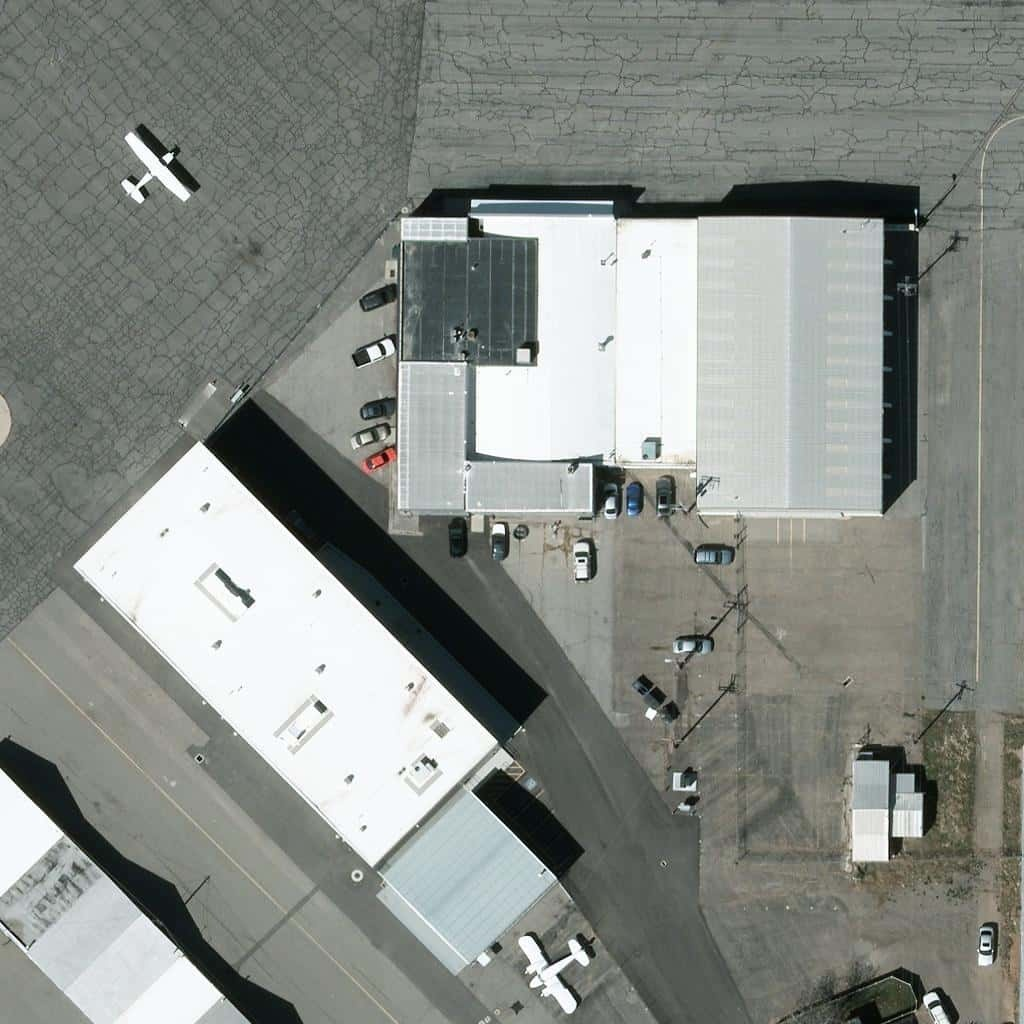plane: (116, 131, 196, 209)
